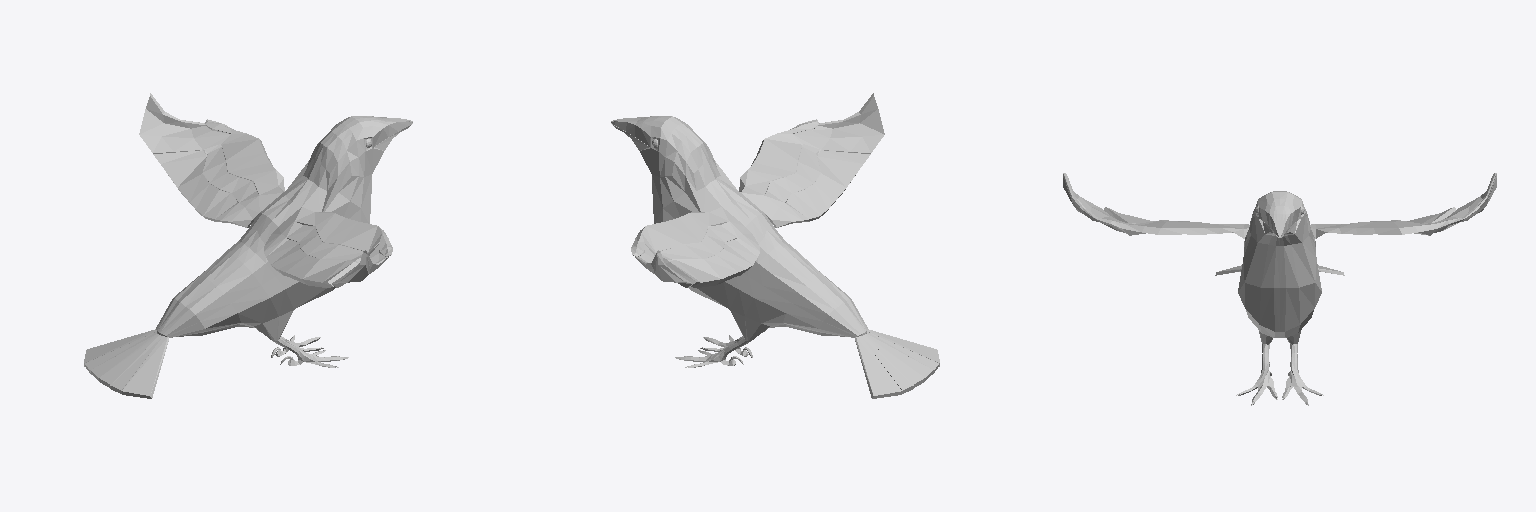
File: LowPolyBird.obj
3 renders of one model, left to right at view 1: azimuth 30°, elevation 25°; view 2: azimuth 150°, elevation 25°; view 3: azimuth 270°, elevation 25°, orthographic.
Visible parts, largest first — view 1: Cube.001_Cube.000; view 2: Cube.001_Cube.000; view 3: Cube.001_Cube.000.
Boxes of the visible parts, x1,y1,x2,y2 form: Cube.001_Cube.000: [84, 93, 412, 398]; Cube.001_Cube.000: [611, 93, 939, 398]; Cube.001_Cube.000: [1063, 173, 1496, 405].
Bounding box in the file's own units: 8.3 × 5.69 × 9.94.